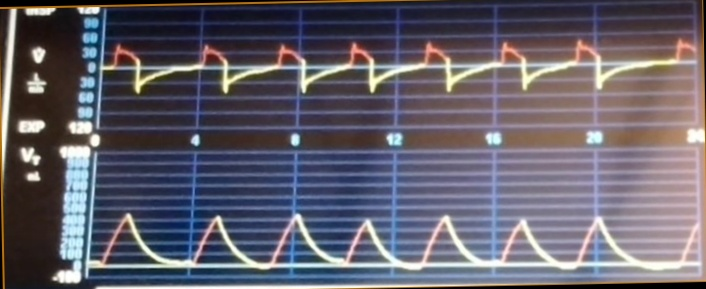Normal Flow: (104, 26, 695, 112)
Normal Volume: (93, 194, 698, 275)
